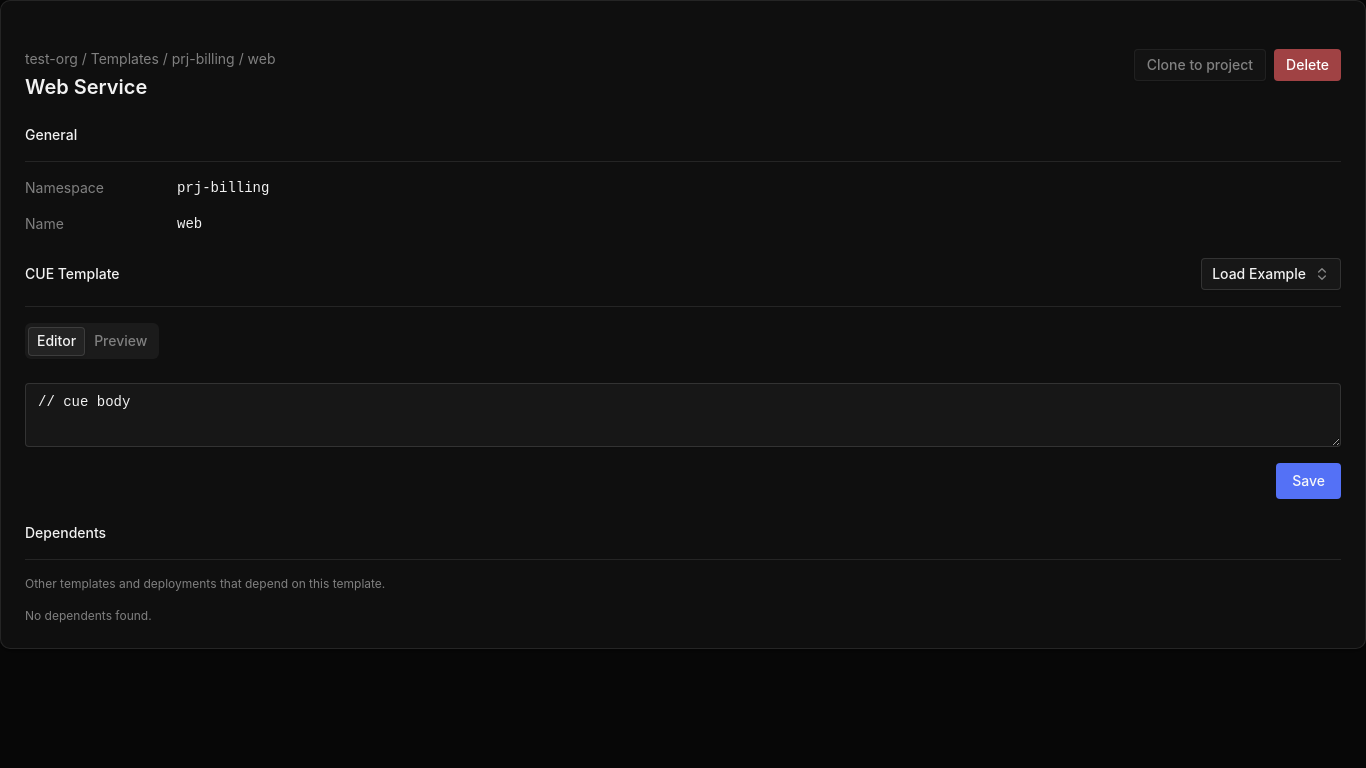
it: ConsolidatedTemplateEditorPage › delete flow › closes the dialog without mutating when Cancel is clicked
The image size is (1366, 768).
Click the button "Delete" at [1308, 65], box [1274,49,1341,81]
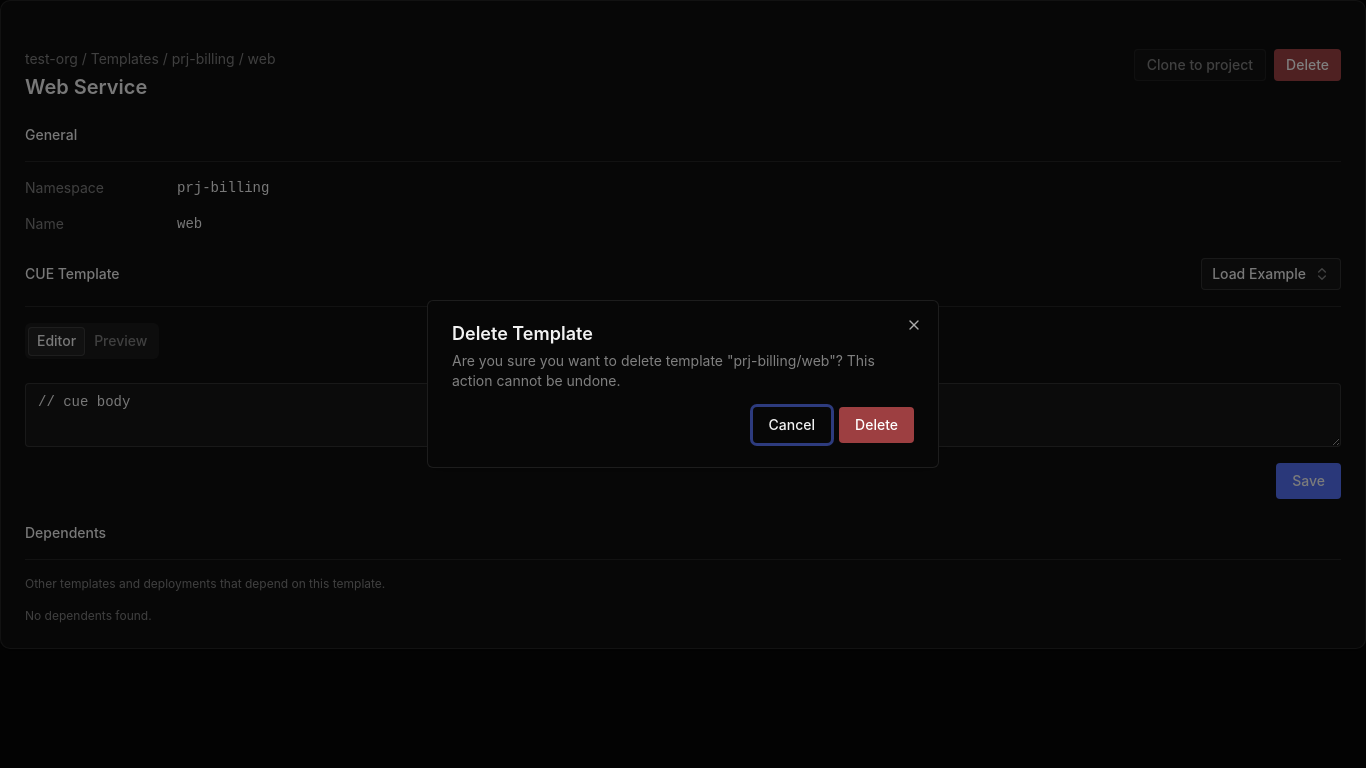
Check: the heading "Delete Template" is shown, box [452,323,593,344]
Click the button "Cancel" at [792, 425], box [753,407,831,443]
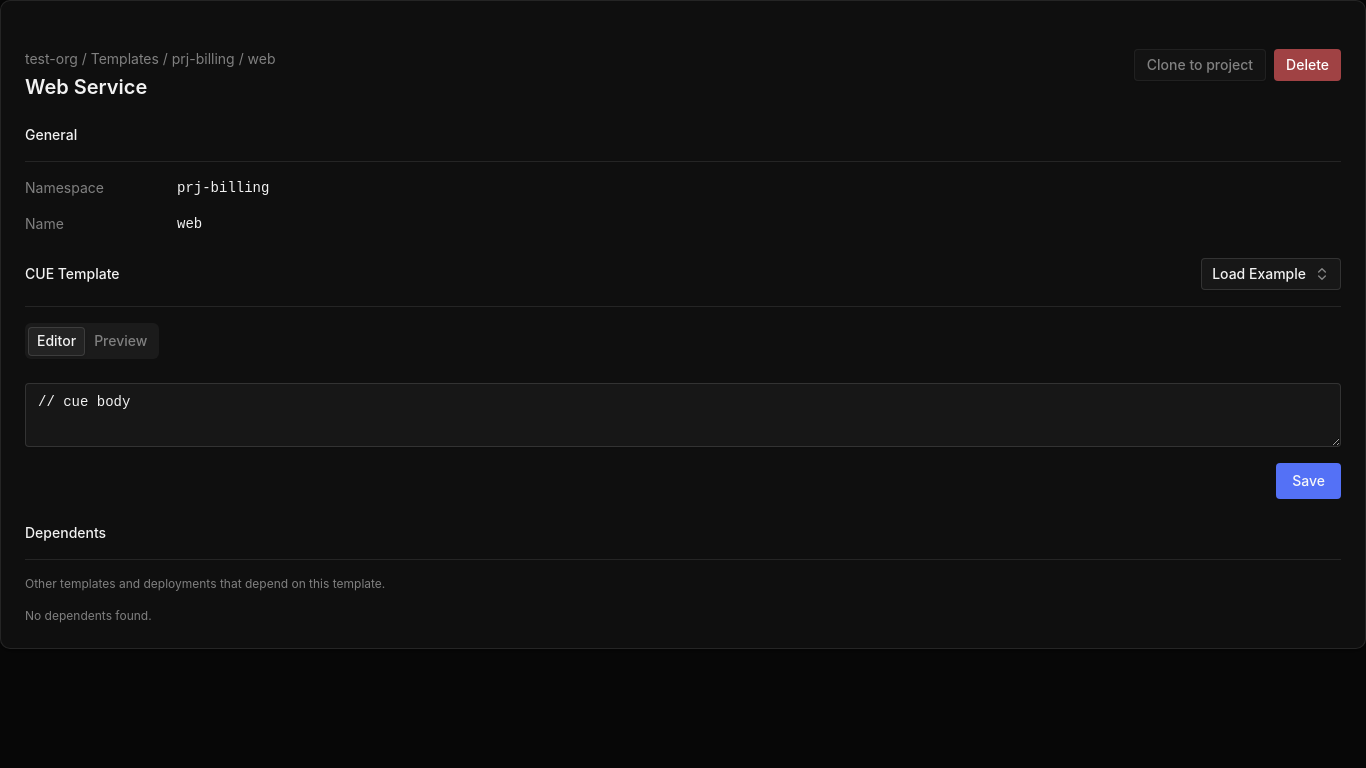
Check: the heading "Delete Template" is gone
